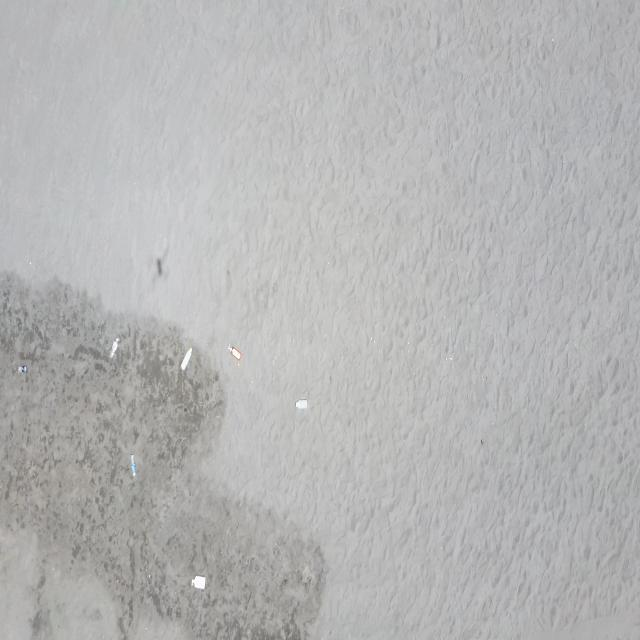Garbage: (180, 347, 191, 369), (227, 344, 240, 360), (191, 575, 204, 588), (129, 453, 136, 476), (111, 336, 118, 357), (296, 399, 307, 407), (19, 364, 27, 372)
